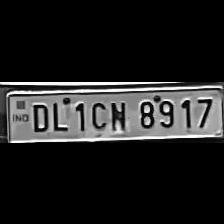1: (71, 98, 88, 132), (176, 96, 192, 128)
7: (192, 94, 212, 128)
8: (134, 96, 154, 128)
9: (155, 96, 175, 128)
C: (87, 97, 107, 130)
D: (28, 100, 50, 132)
L: (50, 98, 70, 132)
N: (107, 97, 129, 131)
